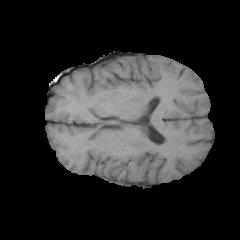glioma: (103, 157, 132, 184)
